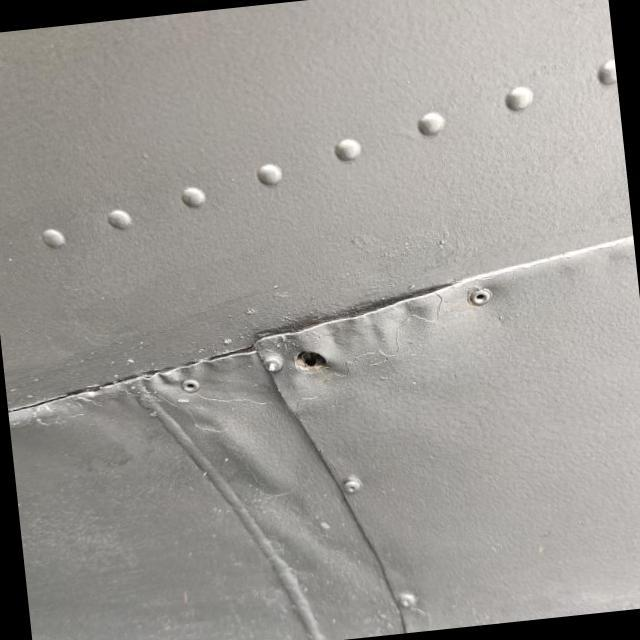Fastener Damage: (232, 293, 366, 420)
